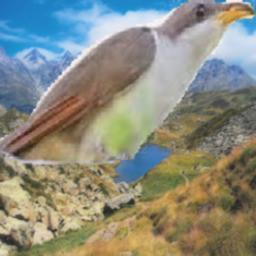Cuckoo: (0, 0, 256, 180)
